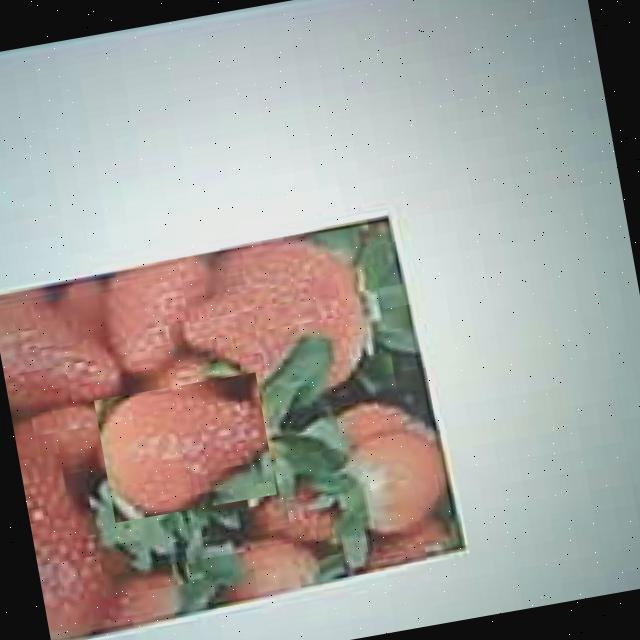ripe: (178, 228, 382, 413), (95, 372, 277, 522)
